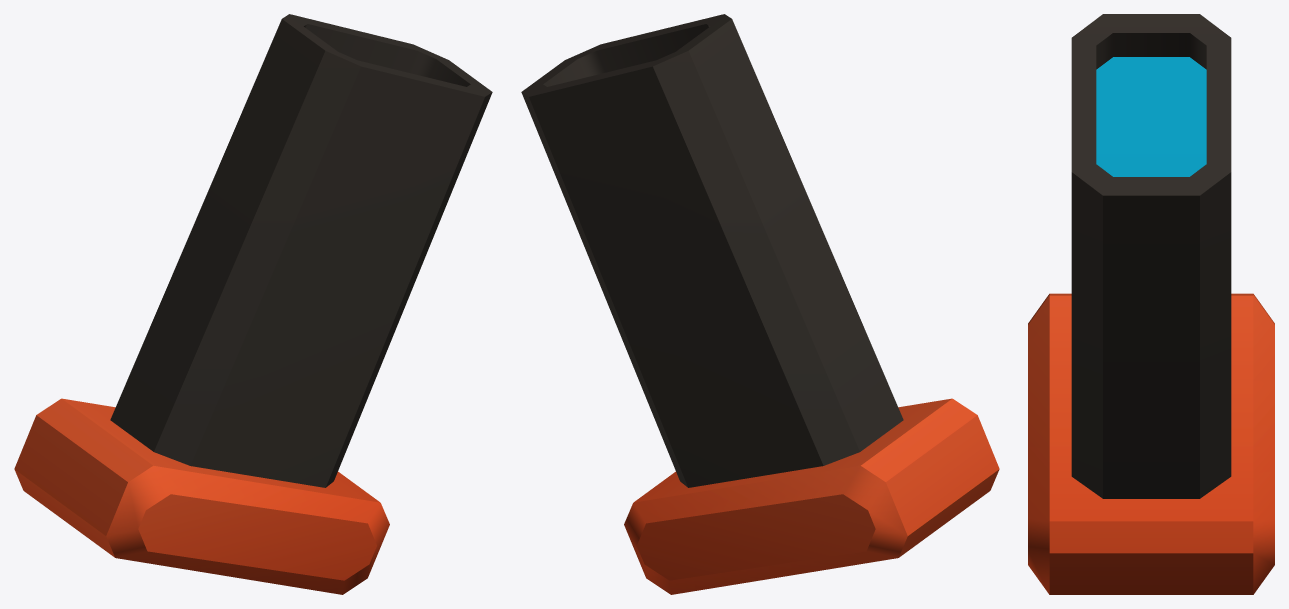
Rendered from Pistol1_Magazine.fbx.
3 renders of one model, left to right at view 1: azimuth 30°, elevation 25°; view 2: azimuth 150°, elevation 25°; view 3: azimuth 270°, elevation 25°, orthographic. The views are drawn at different scales.
Parts seen in each view (by area): view 1: Pistol1_Magazine; view 2: Pistol1_Magazine; view 3: Pistol1_Magazine.
Boxes of the visible parts, x1,y1,x2,y2 form: Pistol1_Magazine: [14, 14, 492, 594]; Pistol1_Magazine: [521, 14, 999, 594]; Pistol1_Magazine: [1028, 14, 1274, 594].
Bounding box in the file's own units: 11.54 × 14.09 × 5.41.
